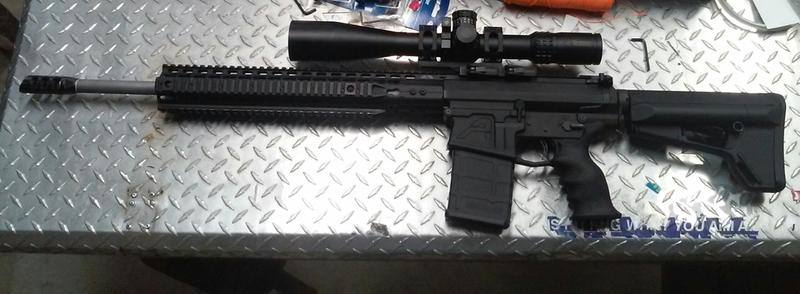Rifle: (14, 14, 793, 244)
